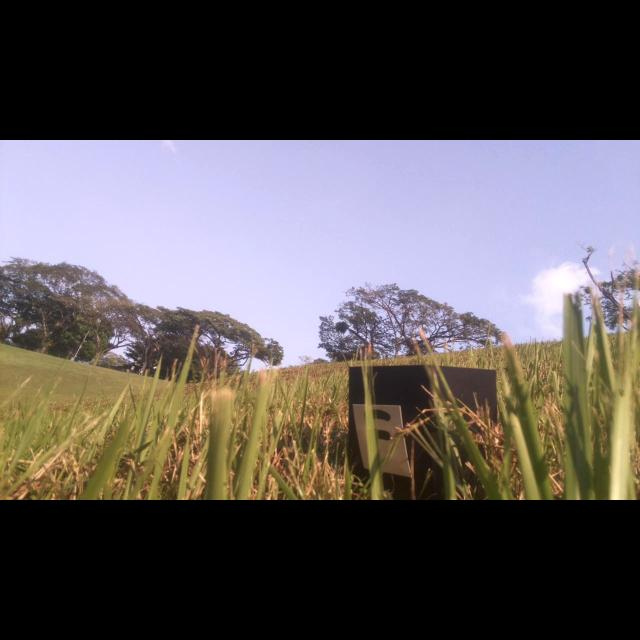F: (363, 409, 391, 456)
